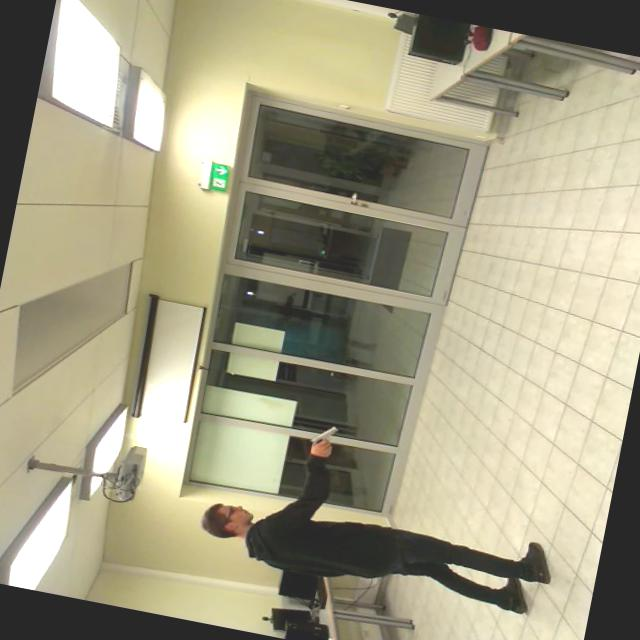handgun: (304, 416, 350, 454)
